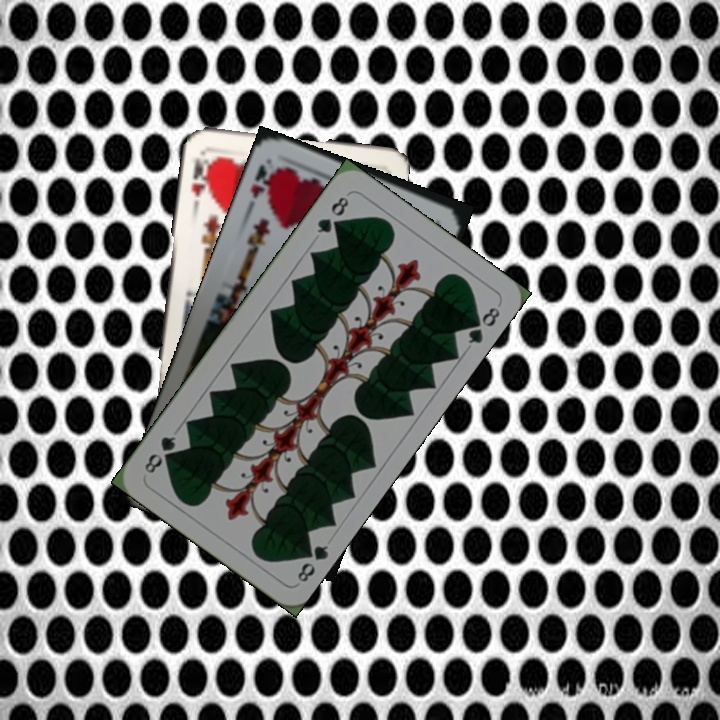G8: (293, 539, 331, 585), (313, 192, 352, 236)
HK: (246, 161, 281, 213), (187, 154, 215, 200)
